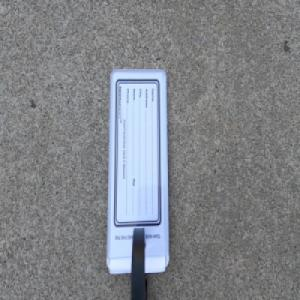LuggageTag: (105, 67, 171, 300)
